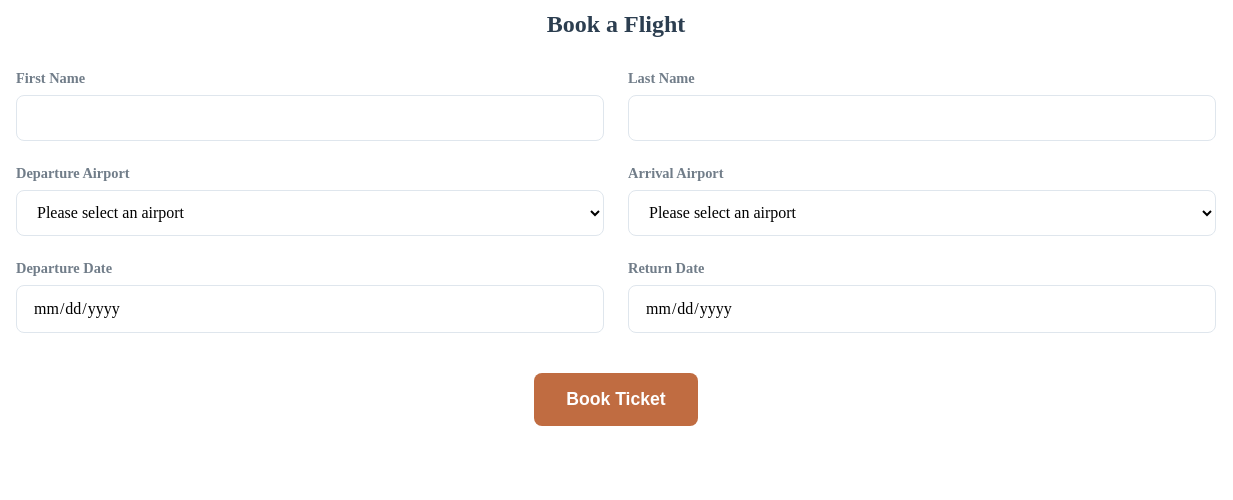
Test: <BookingForm /> › shows error if submitting empty form
Step 1. Click the submit button → (616, 400), box [534, 373, 697, 426]
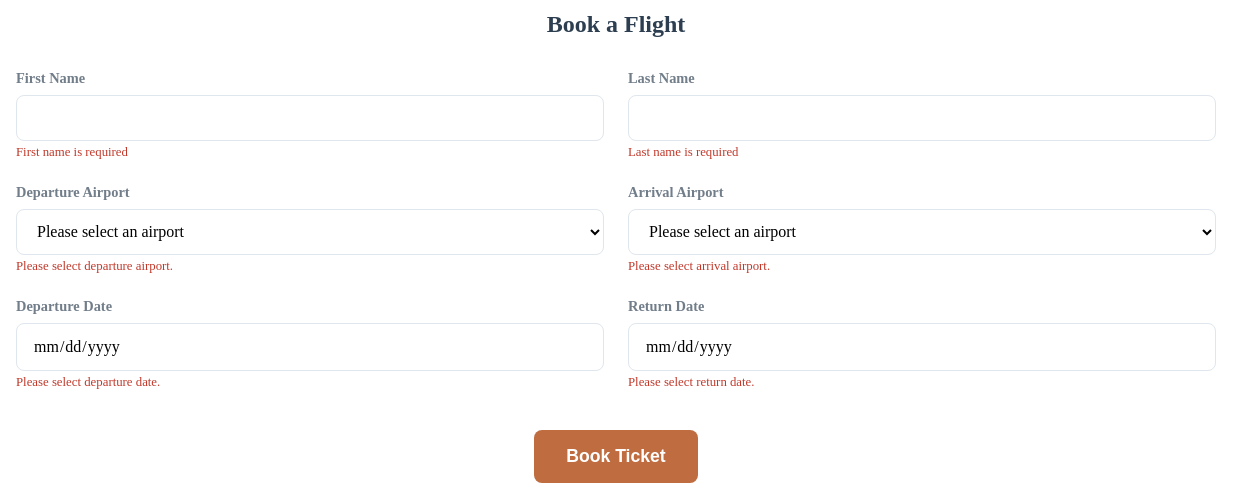
Expected: the text "First name is required" is shown, [16, 145, 128, 159]
